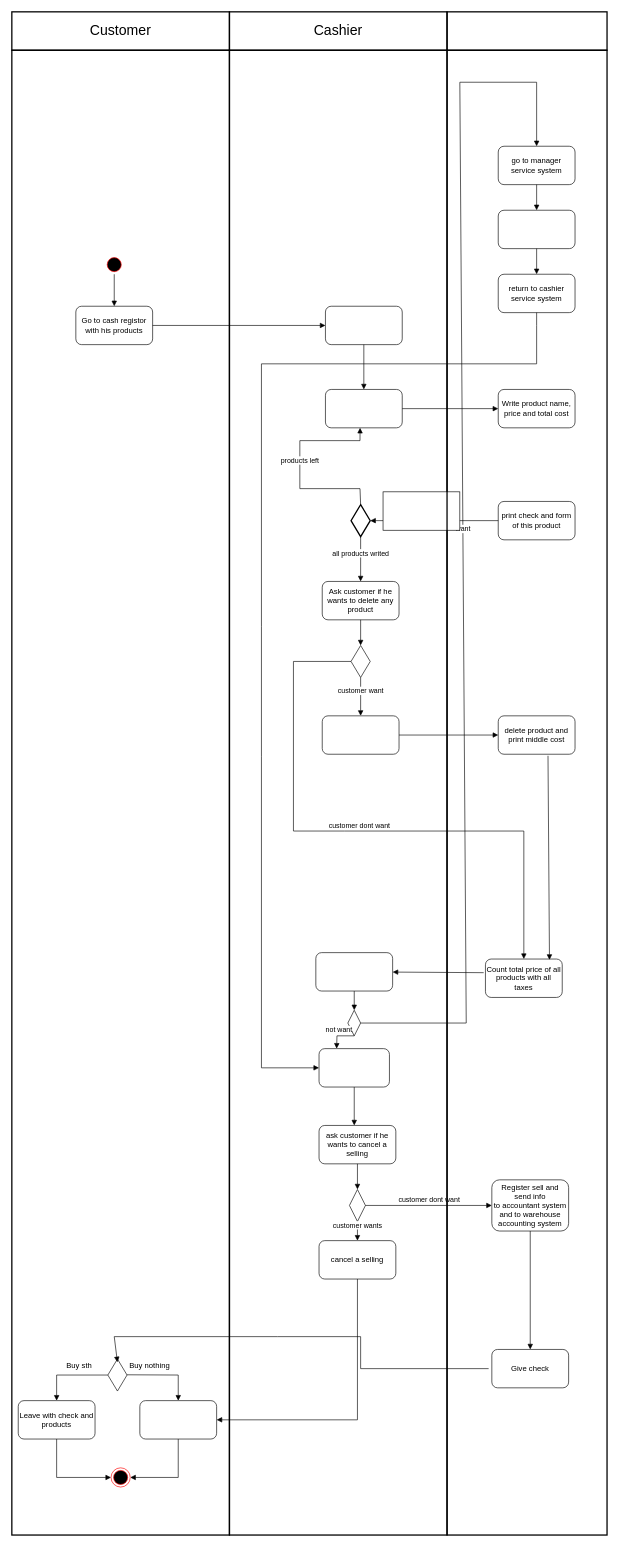
Some shapes in this 618 by 1546 pixel diagram are drawn without their labels. Here are the shapes that lost their labels. From the top down, the centre of each, then its label:
the point at 526,31: System
the point at 536,229: cancel an operation
the point at 363,325: Open new sell
the point at 363,408: Enter ID
the point at 360,734: enter product id
the point at 354,971: Ask manager if he wants to cancel an opperation
the point at 353,1067: Say total cost to a customer and ask to buy it
the point at 178,1419: Leave
